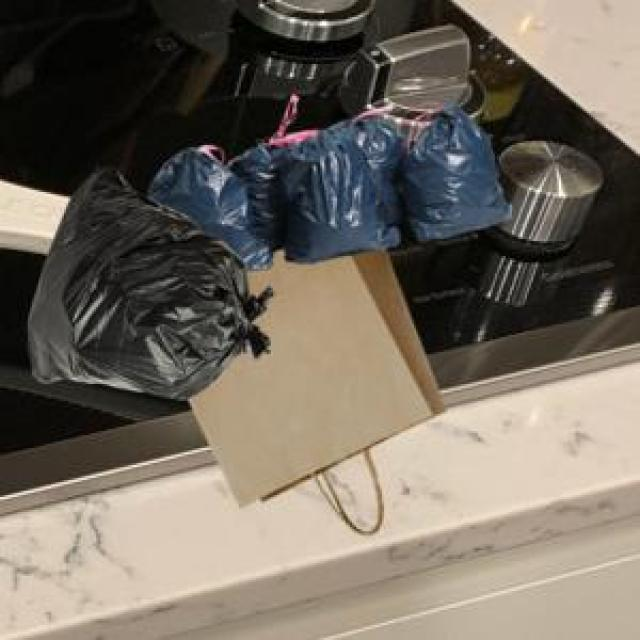miscellaneous trash: (143, 100, 508, 267), (24, 162, 269, 395)
paper: (186, 243, 442, 529)
